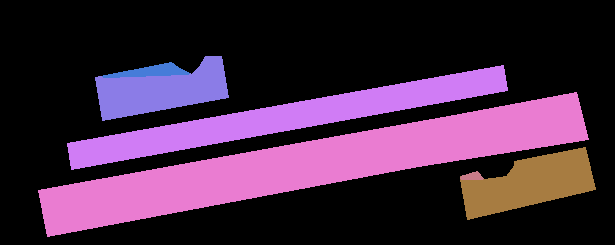parkingspot: (38, 92, 588, 236), (67, 65, 507, 169), (460, 147, 595, 219), (95, 56, 228, 120)
